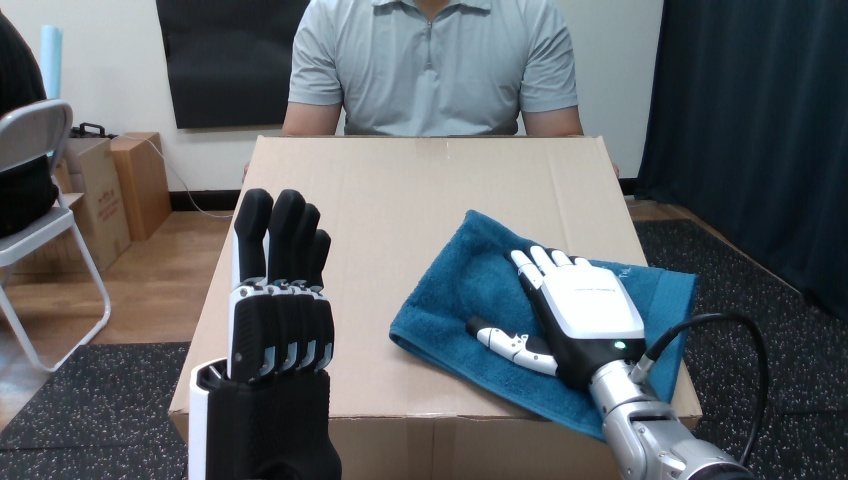left robot hand: (466, 244, 768, 479), (189, 188, 340, 478), (647, 320, 760, 463)
